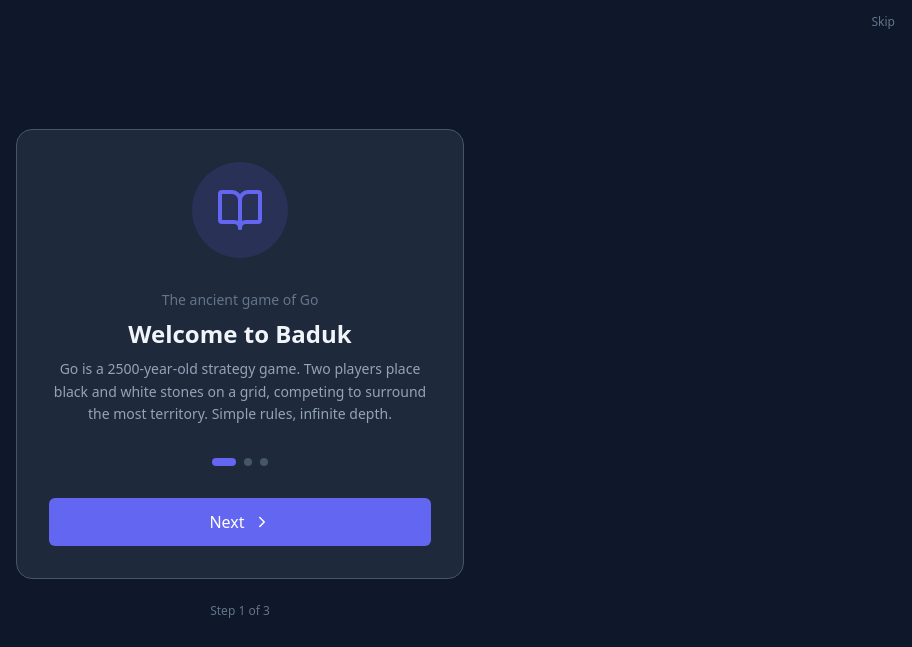
OnboardingScreen › goes back to step 1 when Back is clicked from step 2
Click the button with test id "onboarding-next-button" at point(240, 522), box [49, 498, 431, 546]
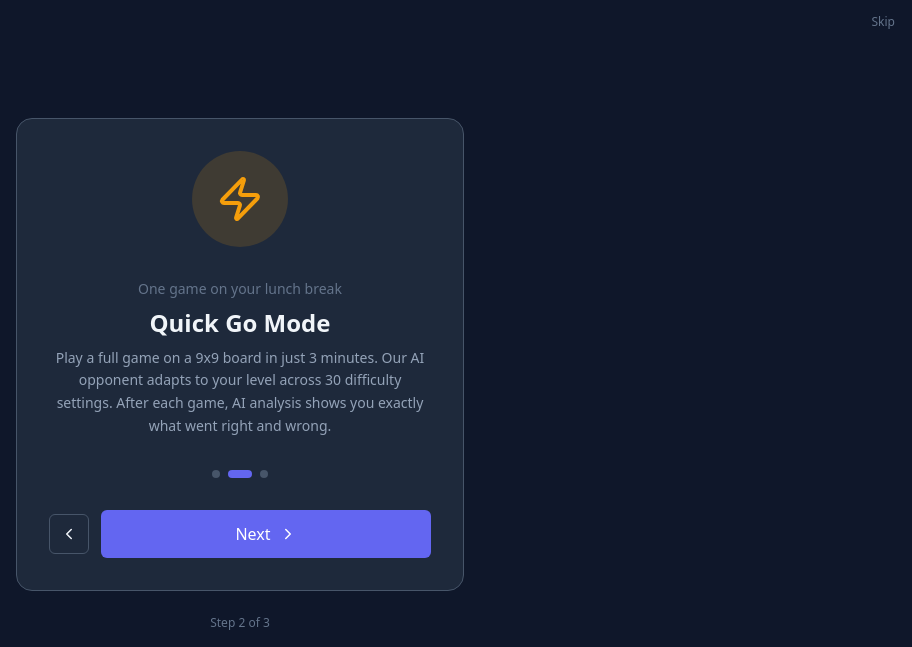
Click the button with test id "onboarding-back-button" at point(69, 534), box [49, 514, 89, 554]
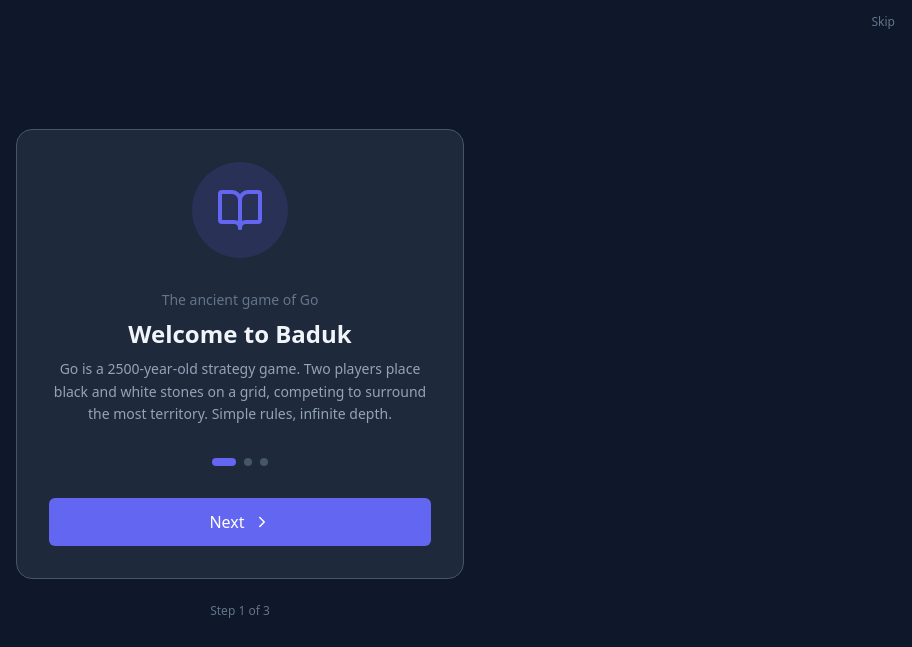
expect the heading "Welcome to Baduk" is shown: met, box [128, 317, 352, 350]
expect the text with test id "onboarding-step-counter" reads "Step 1 of 3": met, box [210, 603, 270, 619]
